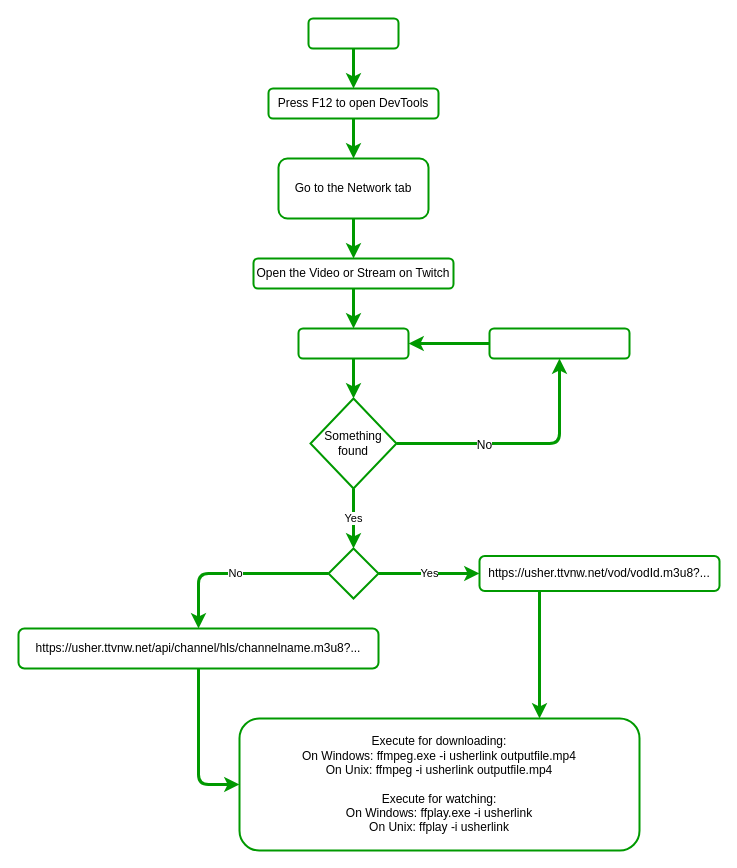
This 737x868 diagram has some shape labels left out. Here are the shapes that lost their labels. From the top down, the centre of each, then its label:
point (353, 33): Open Browser
point (353, 343): Search for "usher"
point (559, 343): Press F5 / Reload Page
point (353, 573): Is VOD
